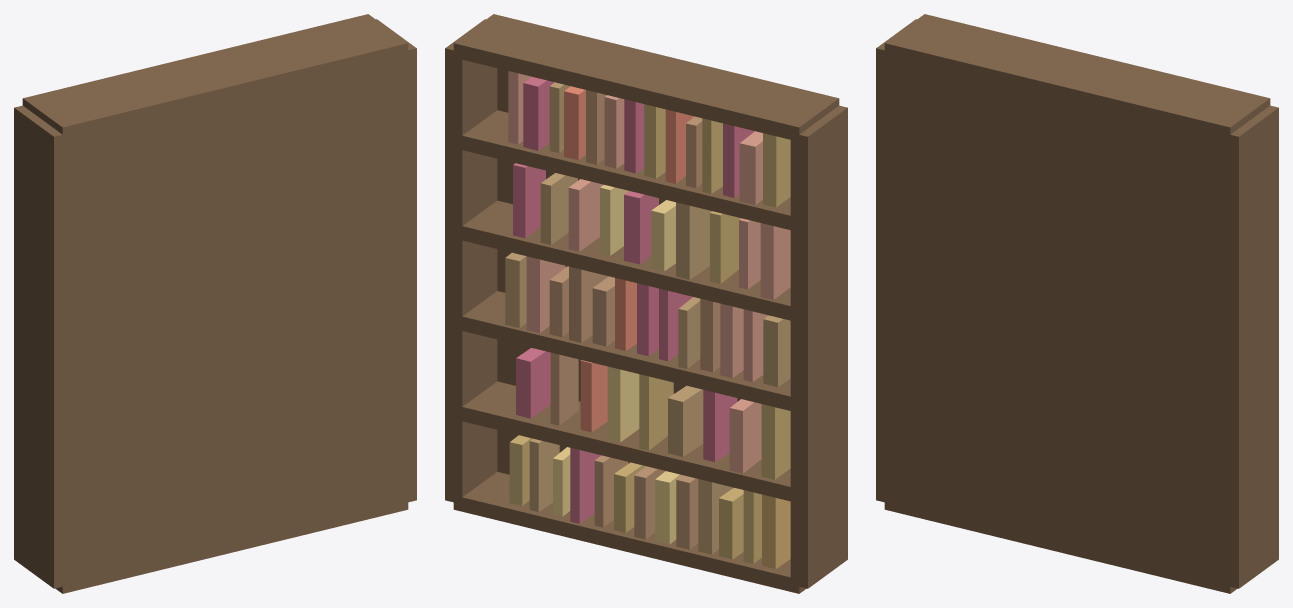
3 renders of one model, left to right at view 1: azimuth 30°, elevation 25°; view 2: azimuth 150°, elevation 25°; view 3: azimuth 330°, elevation 25°, orthographic.
Visible parts, largest first — view 1: object 3, Cube, Cube.008, Cube.001, Cube.003, Cube.007, Cube.004, Cube.005, Cube.006; view 2: object 10, Cube, Cube.008, Cube.001, Cube.004, Cube.006, Cube.003, Cube.005, Cube.007, object 3; view 3: object 3, Cube.001, Cube.008, Cube, Cube.003, Cube.004, Cube.005, Cube.007, Cube.006.
Part boxes in pixels (bbox=[...]): object 3: bbox=[62, 51, 408, 586]; Cube: bbox=[14, 105, 71, 588]; Cube.008: bbox=[22, 14, 408, 140]; Cube.001: bbox=[376, 19, 416, 504]; Cube.003: bbox=[55, 495, 408, 593]; Cube.007: bbox=[62, 133, 408, 230]; Cube.004: bbox=[122, 405, 408, 487]; Cube.005: bbox=[130, 314, 408, 395]; Cube.006: bbox=[66, 224, 408, 316]; object 10: bbox=[505, 71, 790, 569]; Cube: bbox=[790, 105, 847, 588]; Cube.008: bbox=[453, 14, 839, 141]; Cube.001: bbox=[445, 19, 497, 504]; Cube.004: bbox=[453, 381, 799, 503]; Cube.006: bbox=[453, 200, 798, 320]; Cube.003: bbox=[453, 472, 806, 593]; Cube.005: bbox=[453, 291, 798, 412]; Cube.007: bbox=[453, 110, 799, 231]; object 3: bbox=[497, 68, 740, 487]; object 3: bbox=[885, 50, 1230, 586]; Cube.001: bbox=[1221, 105, 1278, 588]; Cube.008: bbox=[884, 14, 1270, 140]; Cube: bbox=[876, 19, 916, 504]; Cube.003: bbox=[884, 495, 1237, 593]; Cube.004: bbox=[885, 405, 1112, 473]; Cube.005: bbox=[884, 314, 1071, 374]; Cube.007: bbox=[884, 135, 1230, 230]; Cube.006: bbox=[884, 224, 1223, 318].
Size of the model in its own units: 2.1 by 2.58 by 0.4.
